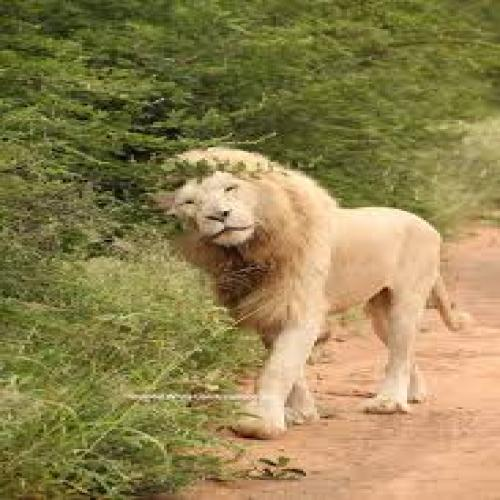lion-endangered: (156, 149, 474, 436)
